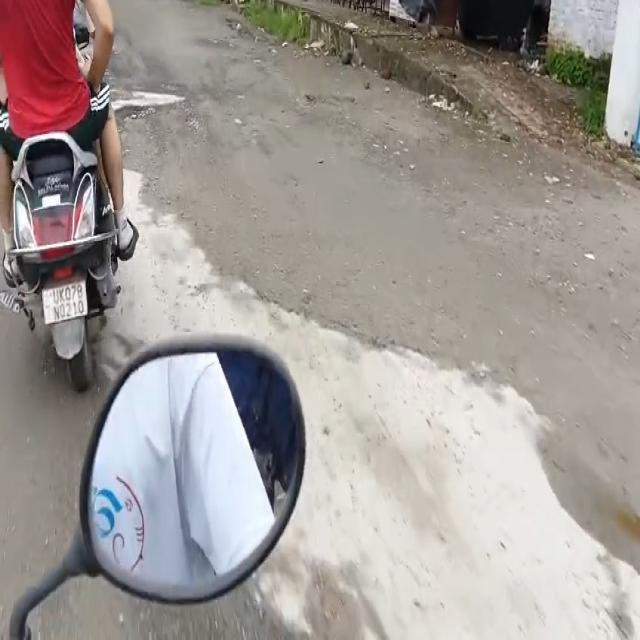road-pothole: (117, 86, 187, 126)
